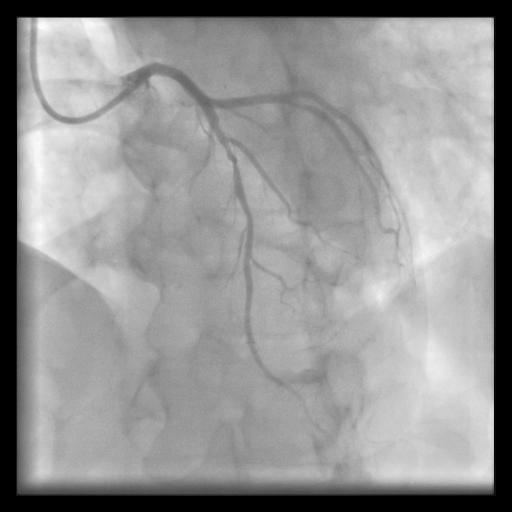Stenosis: (222, 141, 240, 198)
